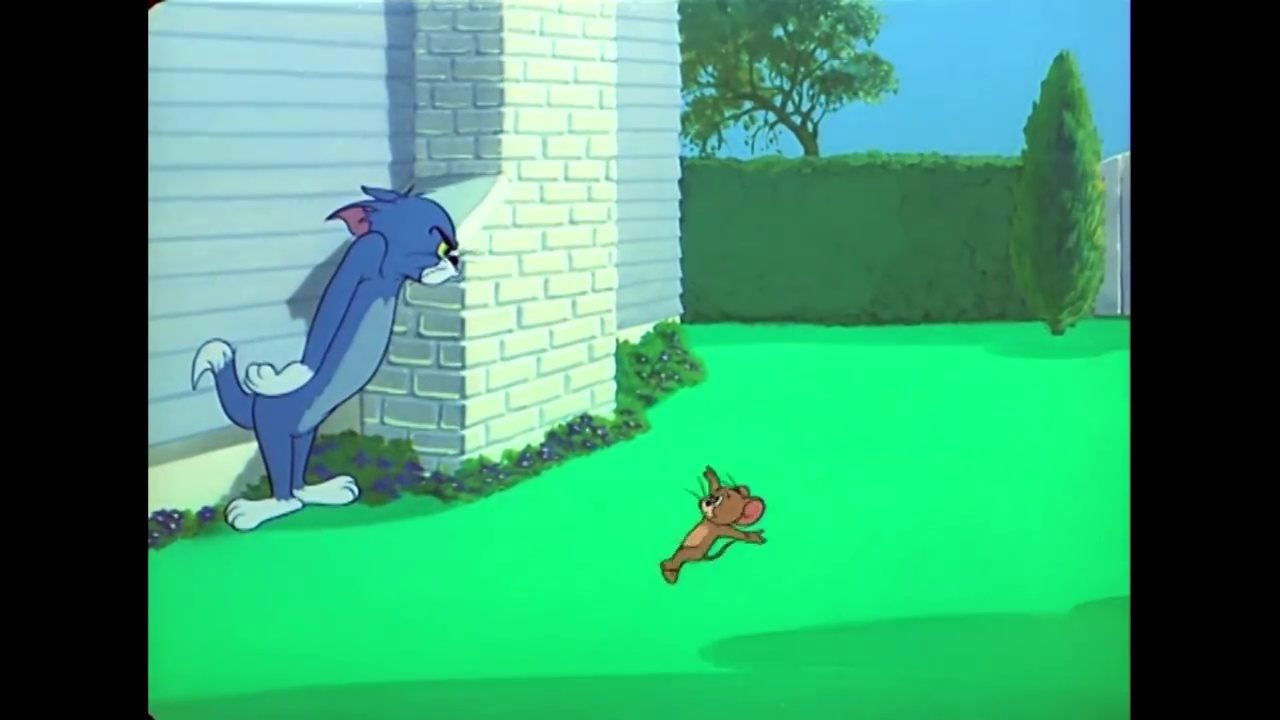tom: (322, 174, 469, 306)
